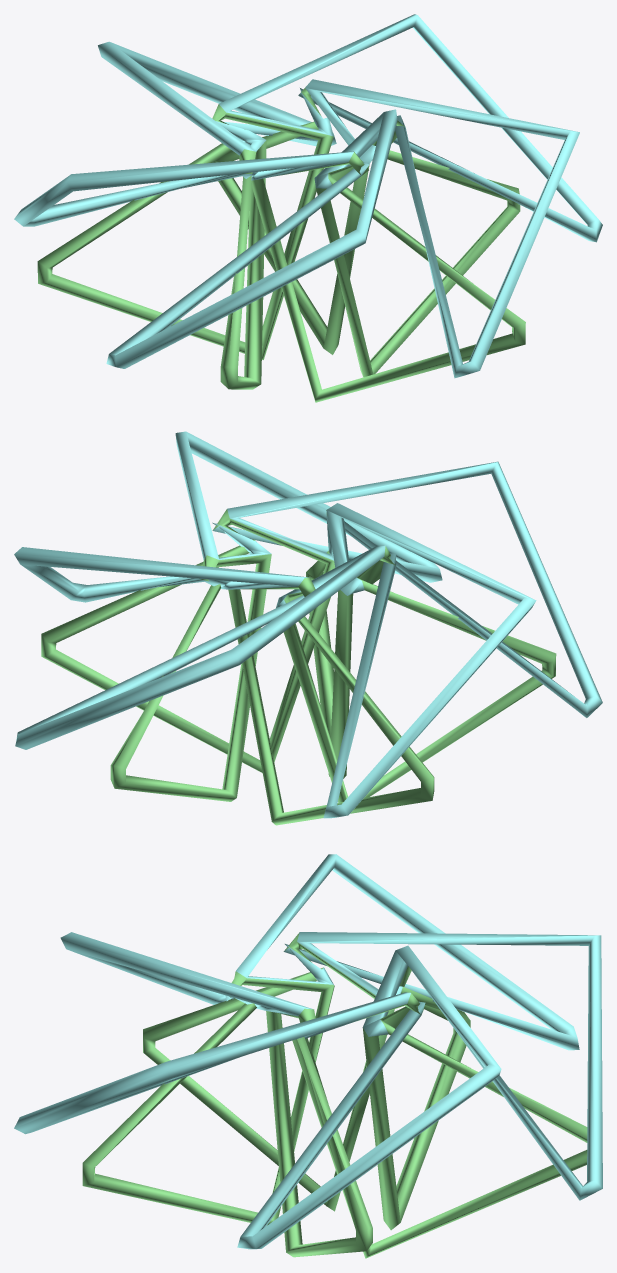
File: MapF.glb
The picture shows the model from 3 angles, top to bottom: view 1: azimuth 30°, elevation 25°; view 2: azimuth 150°, elevation 25°; view 3: azimuth 270°, elevation 25°; orthographic projection. The views are drawn at different scales.
Visible parts, largest first — view 1: RegularMap_F; view 2: RegularMap_F; view 3: RegularMap_F.
Part boxes in pixels (box(x1,y1,x2,y2)): RegularMap_F: box(14, 14, 602, 402); RegularMap_F: box(14, 431, 602, 825); RegularMap_F: box(14, 854, 602, 1258).
Bounding box in the file's own units: 13.45 × 6.59 × 13.11.
